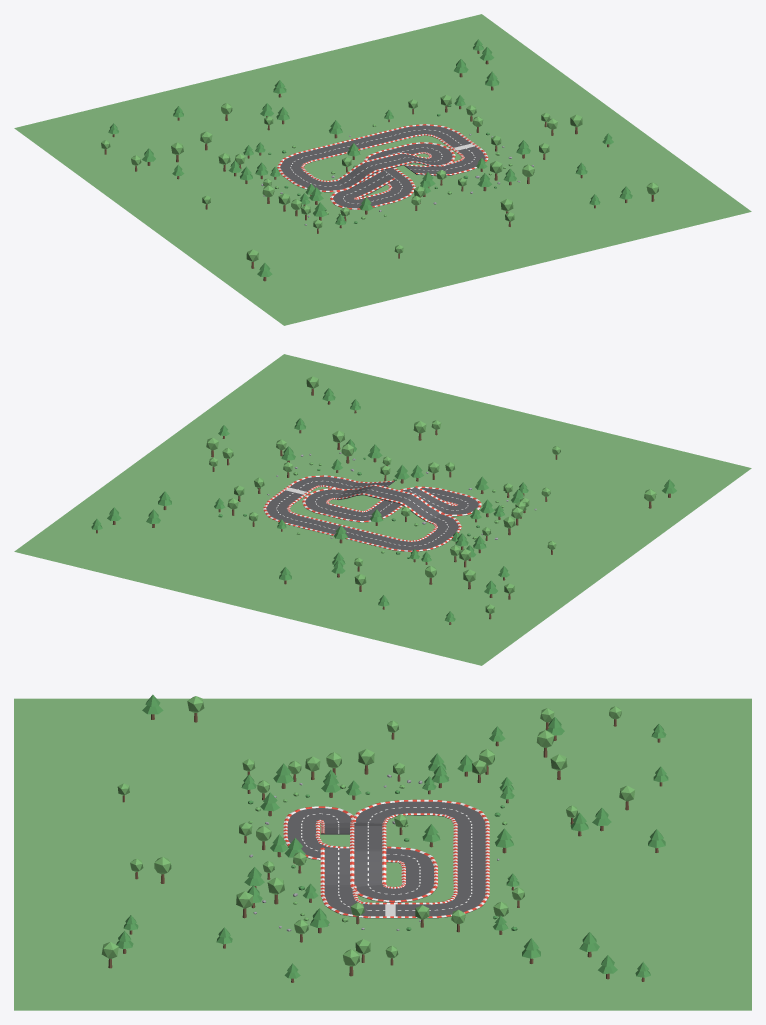
The model's file is pista_corrida.fbx.
3 renders of one model, top to bottom at view 1: azimuth 30°, elevation 25°; view 2: azimuth 150°, elevation 25°; view 3: azimuth 270°, elevation 25°, orthographic. The views are drawn at different scales.
Parts seen in each view (by area): view 1: Terreno, Pista_Asfalto, Vegetacao_Arvores; view 2: Terreno, Pista_Asfalto, Vegetacao_Arvores; view 3: Terreno, Pista_Asfalto, Vegetacao_Arvores.
Part boxes in pixels (x1,y1,x2,y2): Terreno: [14, 14, 751, 325]; Pista_Asfalto: [277, 124, 488, 209]; Vegetacao_Arvores: [101, 39, 658, 281]; Terreno: [14, 354, 751, 665]; Pista_Asfalto: [263, 475, 481, 552]; Vegetacao_Arvores: [91, 376, 676, 624]; Terreno: [14, 698, 751, 1010]; Pista_Asfalto: [283, 799, 489, 918]; Vegetacao_Arvores: [101, 694, 668, 982].
Size of the model in its own units: 10000 by 418 by 10000.
